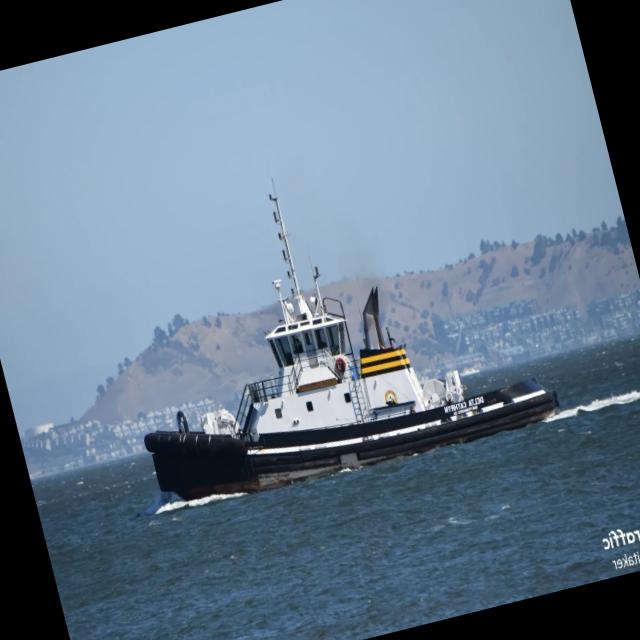Tug: (144, 194, 558, 499)
